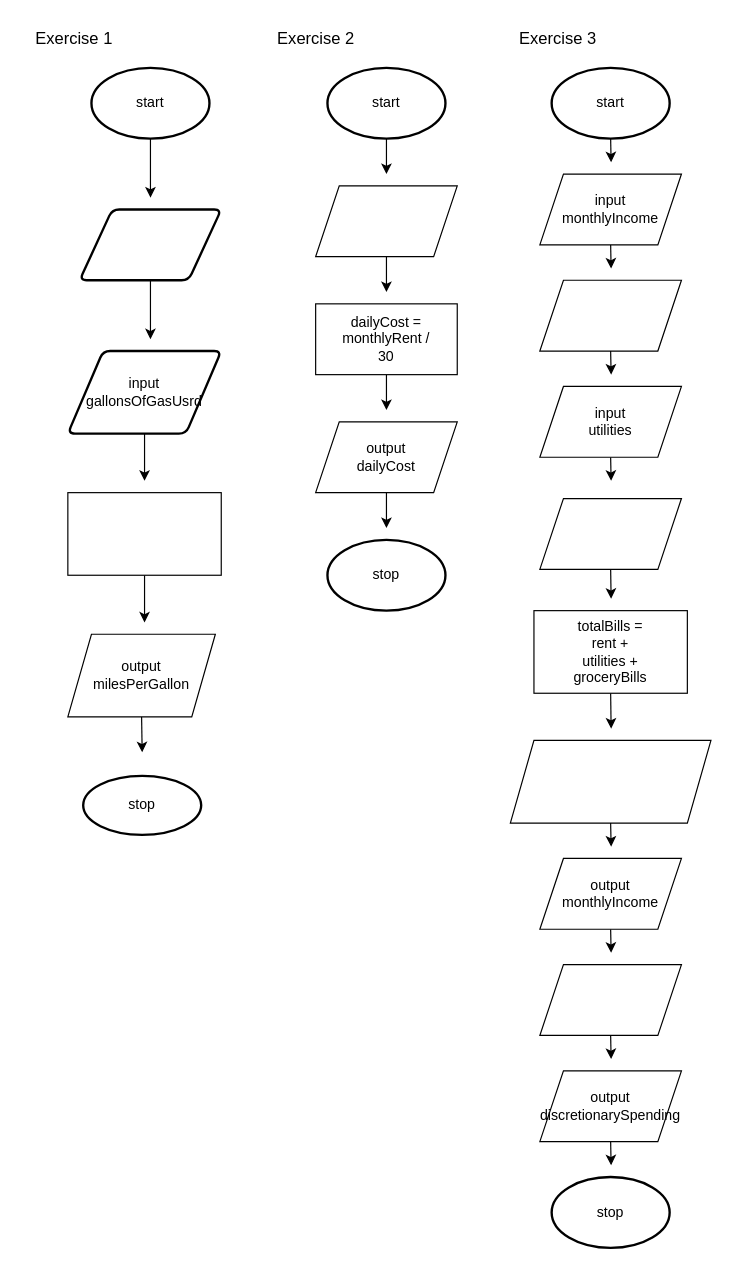
Some shapes in this 732 by 1269 pixel diagram are drawn without their labels. The shapes that lost their labels are listed below. From the top down, each one's box as (x1, y1, x2, y2) in pixels, then its label:
(314, 185, 457, 257): input monthlyRent
(78, 208, 222, 281): input milesTraveled
(539, 279, 681, 351): input rent
(67, 491, 221, 575): milesPerGallon = milesTraveled / gallonsOfGasUsed
(539, 497, 681, 569): input groceryBills
(509, 739, 711, 823): discretionarySpending = monthlyIncome - totalBills
(539, 963, 681, 1035): output totalBills
